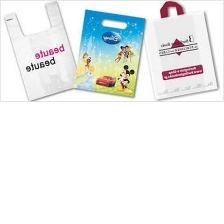plastic_bag: (0, 0, 83, 106), (140, 0, 223, 101), (66, 3, 151, 99)
